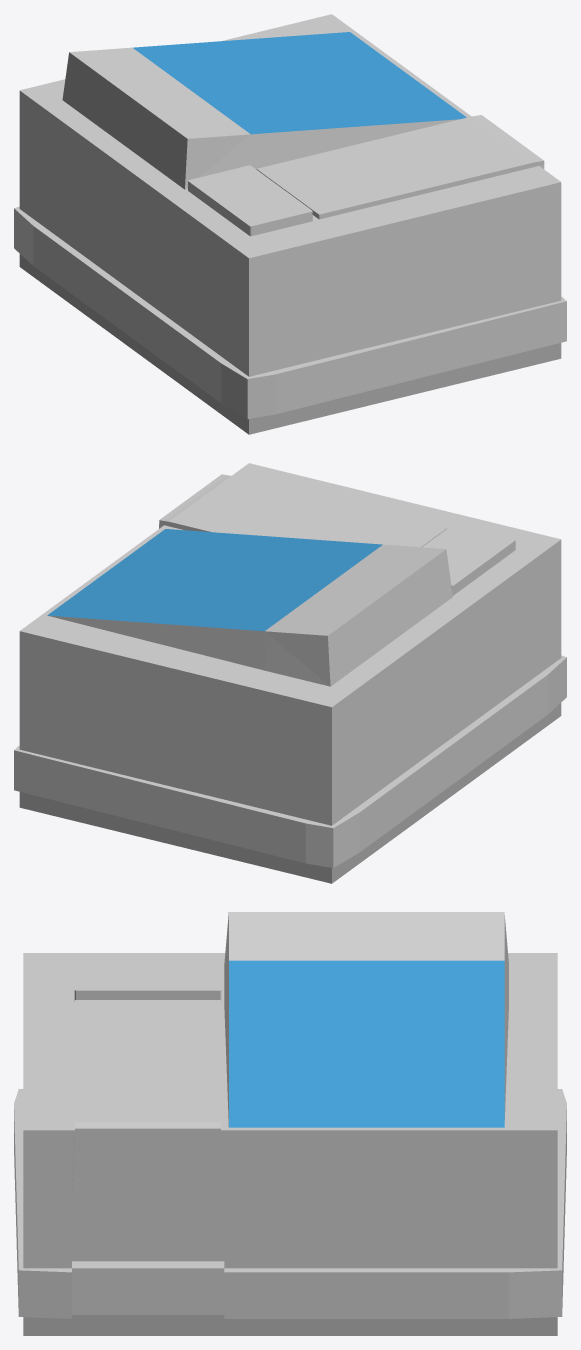
File: Spect_Text_FBX 1.fbx
3 renders of one model, top to bottom at view 1: azimuth 30°, elevation 25°; view 2: azimuth 150°, elevation 25°; view 3: azimuth 270°, elevation 25°, orthographic. The views are drawn at different scales.
Parts seen in each view (by area): view 1: pCube1; view 2: pCube1; view 3: pCube1.
Boxes of the visible parts, x1,y1,x2,y2 form: pCube1: (14, 14, 566, 434); pCube1: (14, 463, 566, 883); pCube1: (14, 912, 566, 1335).
Size of the model in its own units: 3.51 by 2.31 by 4.43.
